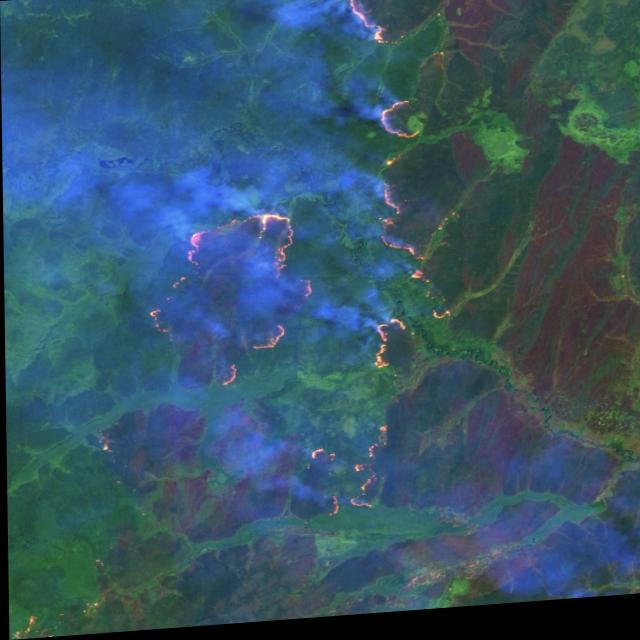fire: (306, 0, 506, 521), (135, 205, 319, 403)
